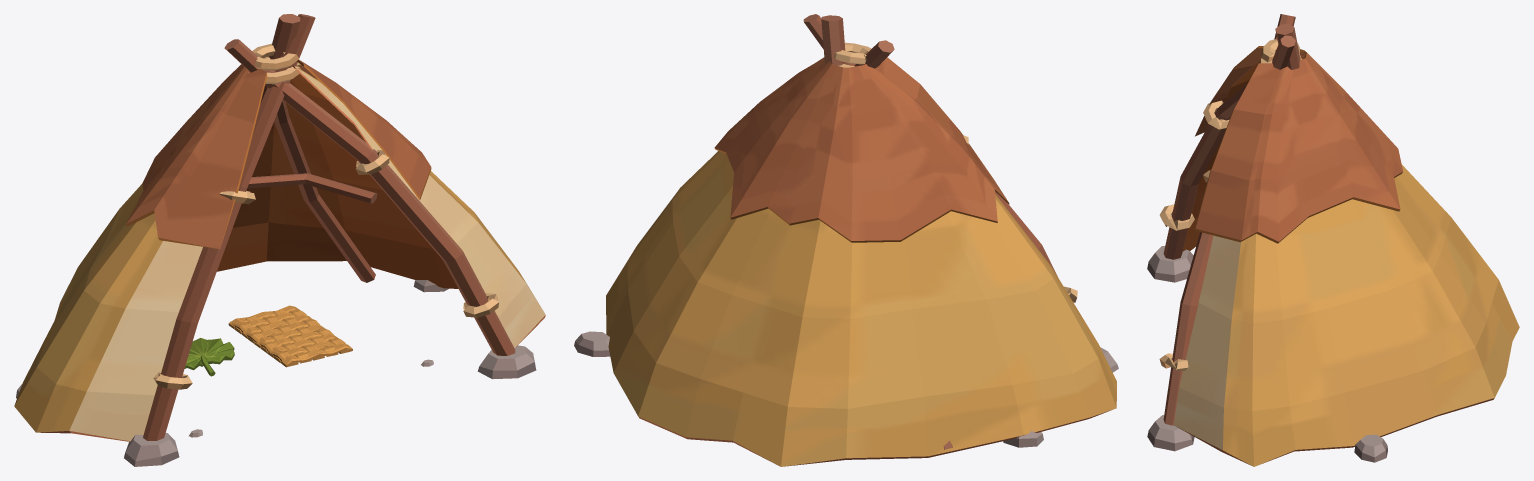
File: 02_Ochre_Wide_Entrance.glb
The picture shows the model from 3 angles, left to right: view 1: azimuth 30°, elevation 25°; view 2: azimuth 150°, elevation 25°; view 3: azimuth 270°, elevation 25°; orthographic projection. The views are drawn at different scales.
Parts seen in each view (by area): view 1: 02_Ochre_Wide_Entrance; view 2: 02_Ochre_Wide_Entrance; view 3: 02_Ochre_Wide_Entrance.
Boxes of the visible parts, x1,y1,x2,y2 form: 02_Ochre_Wide_Entrance: (14, 14, 545, 466); 02_Ochre_Wide_Entrance: (574, 14, 1118, 466); 02_Ochre_Wide_Entrance: (1147, 14, 1519, 466).
Size of the model in its own units: 10.81 by 7.16 by 7.21.
3 materials, 3 textured.
